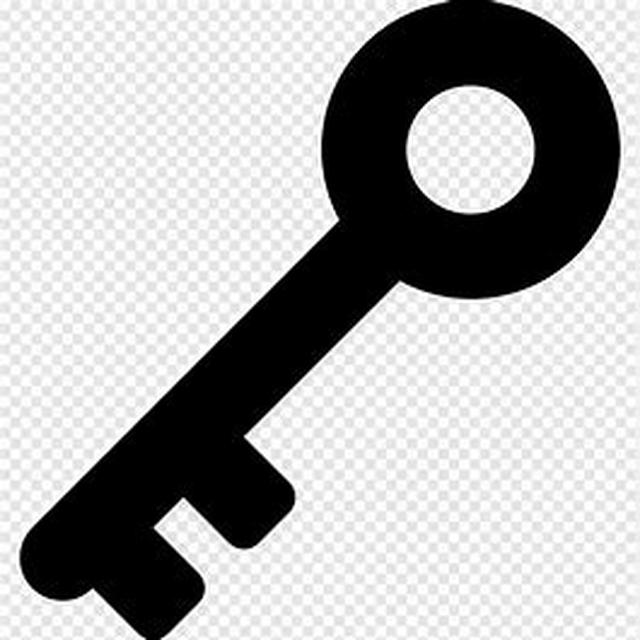key: (9, 5, 622, 618)
